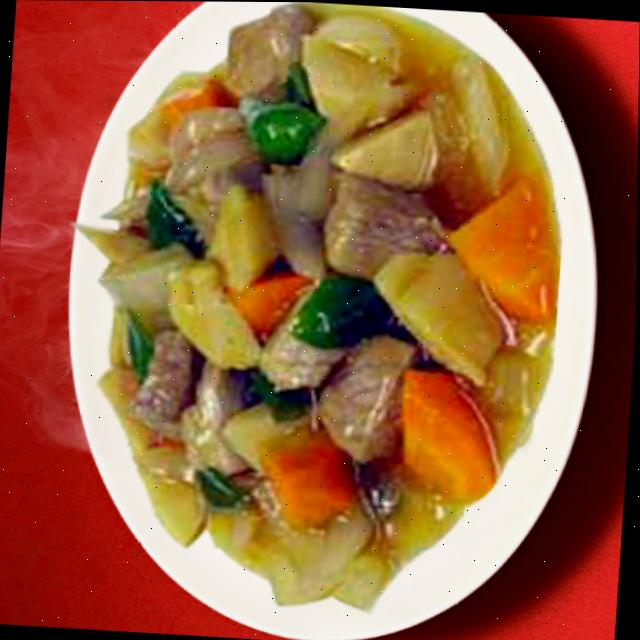猪肉菜式: (46, 0, 574, 624)
